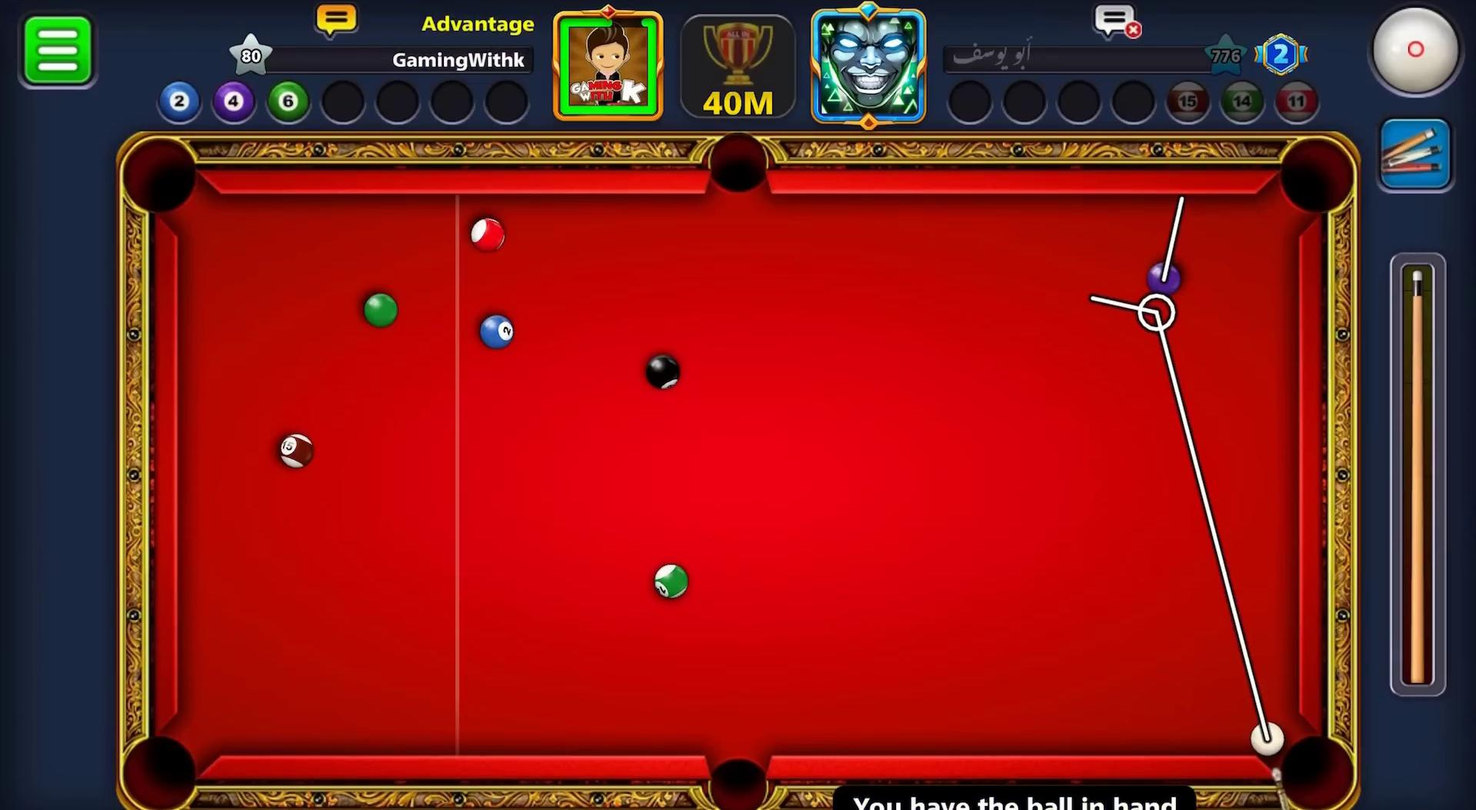Ball: (357, 275, 405, 333), (462, 208, 512, 260), (472, 304, 521, 354), (272, 426, 316, 473), (641, 351, 683, 390), (1146, 258, 1184, 299), (651, 562, 689, 601)
Force: (1391, 250, 1448, 706)
Guideline: (1077, 188, 1276, 747)
Hole: (102, 125, 222, 238), (1274, 733, 1357, 809), (1277, 135, 1356, 214), (122, 733, 198, 808), (708, 132, 768, 192), (705, 755, 770, 809)
Play_Area: (179, 193, 1294, 756)
Spin: (1365, 2, 1471, 102)
White: (1249, 721, 1285, 755)
